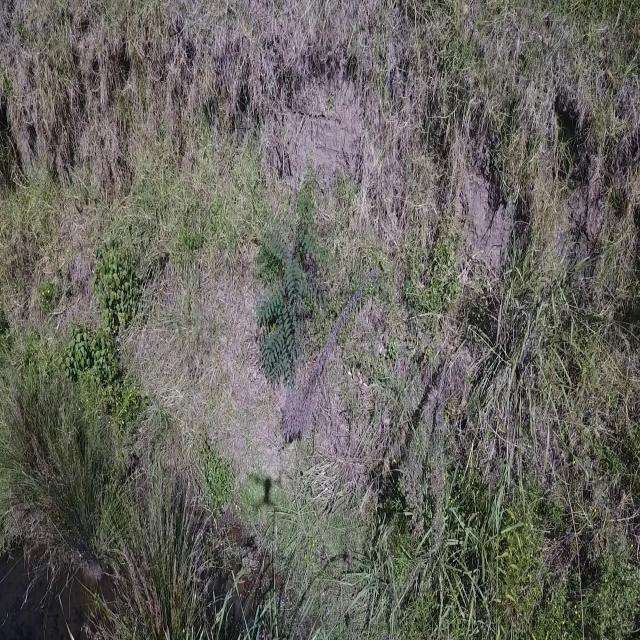Mysore-Thorn-Weed: (256, 212, 327, 387)
